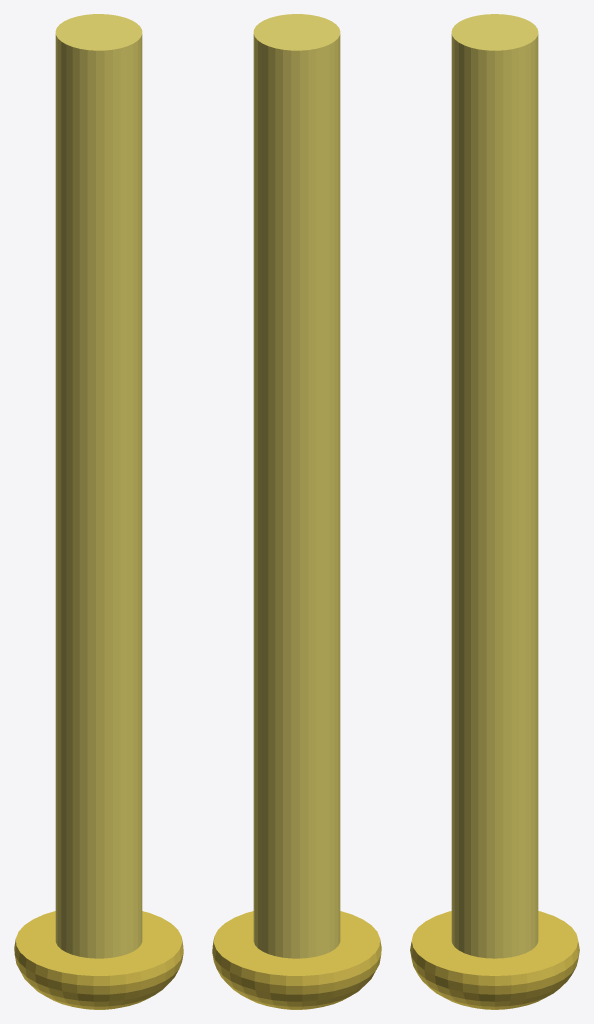
File: newkugi.fbx
3 renders of one model, left to right at view 1: azimuth 30°, elevation 25°; view 2: azimuth 150°, elevation 25°; view 3: azimuth 270°, elevation 25°, orthographic.
Visible parts, largest first — view 1: Cylinder, Sphere; view 2: Cylinder, Sphere; view 3: Cylinder, Sphere.
Part boxes in pixels (x1,y1,x2,y2): Cylinder: [55, 14, 142, 958]; Sphere: [14, 911, 183, 1009]; Cylinder: [253, 14, 340, 958]; Sphere: [212, 911, 381, 1009]; Cylinder: [451, 14, 538, 958]; Sphere: [410, 911, 579, 1009].
Size of the model in its own units: 53.26 by 334 by 53.26.
